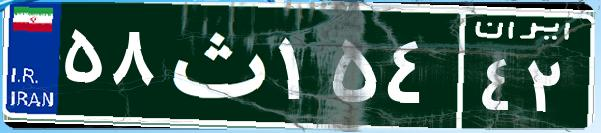1: (273, 28, 330, 110)
2: (525, 38, 570, 115)
4: (385, 28, 445, 110), (475, 38, 525, 113)
5: (330, 28, 385, 110), (57, 26, 110, 107)
8: (110, 28, 158, 105)
ث: (158, 15, 273, 115)
